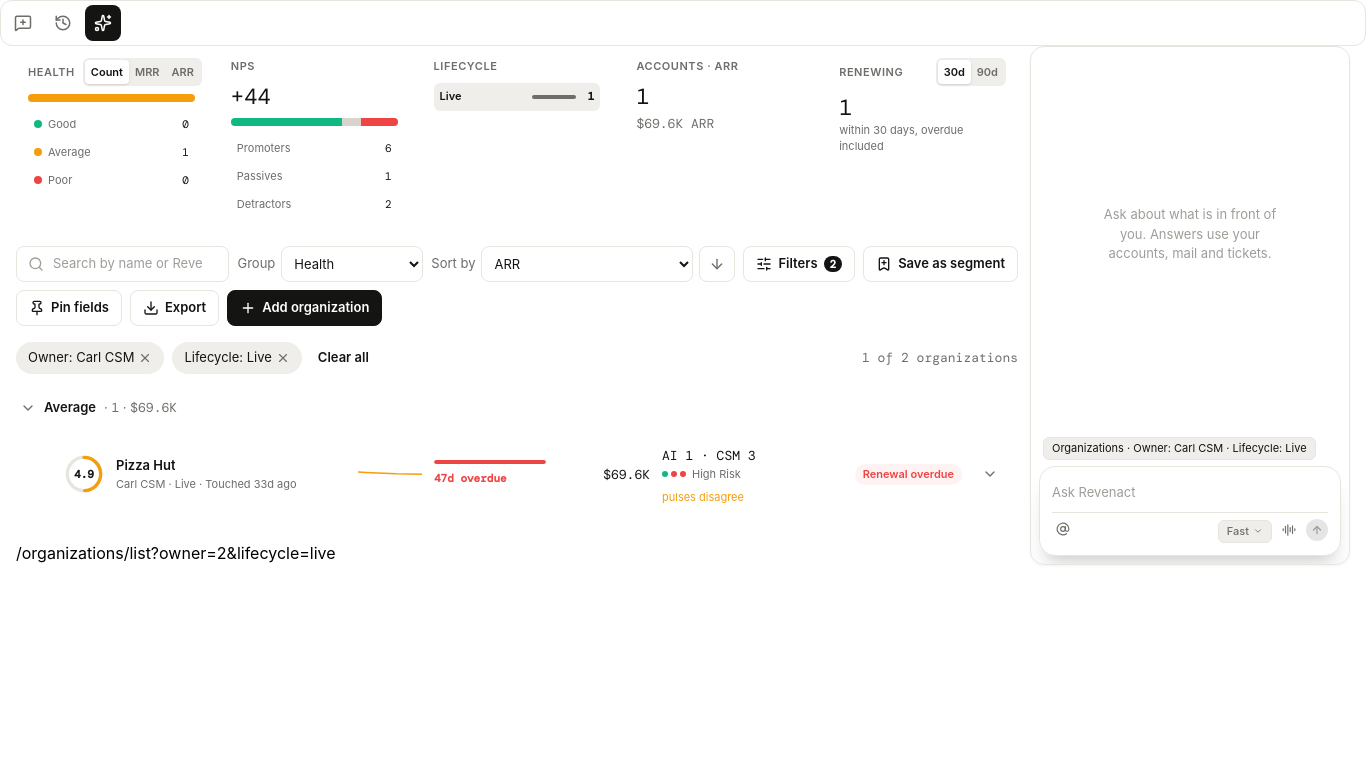
Test: Ask Revenact on Organizations › asks with the list's filters and names them in the chip
Expected: the link "Pizza Hut" is shown, x1=116 y1=456 x2=176 y2=476
Expected: the text "Organizations · Owner: Carl CSM · Lifecycle: Live" is shown, x1=1043 y1=437 x2=1316 y2=460
Type "Who renews first?" into the field with placeholder "Ask Revenact" at (1190, 492), box x1=1052 y1=480 x2=1328 y2=504
Then press Enter
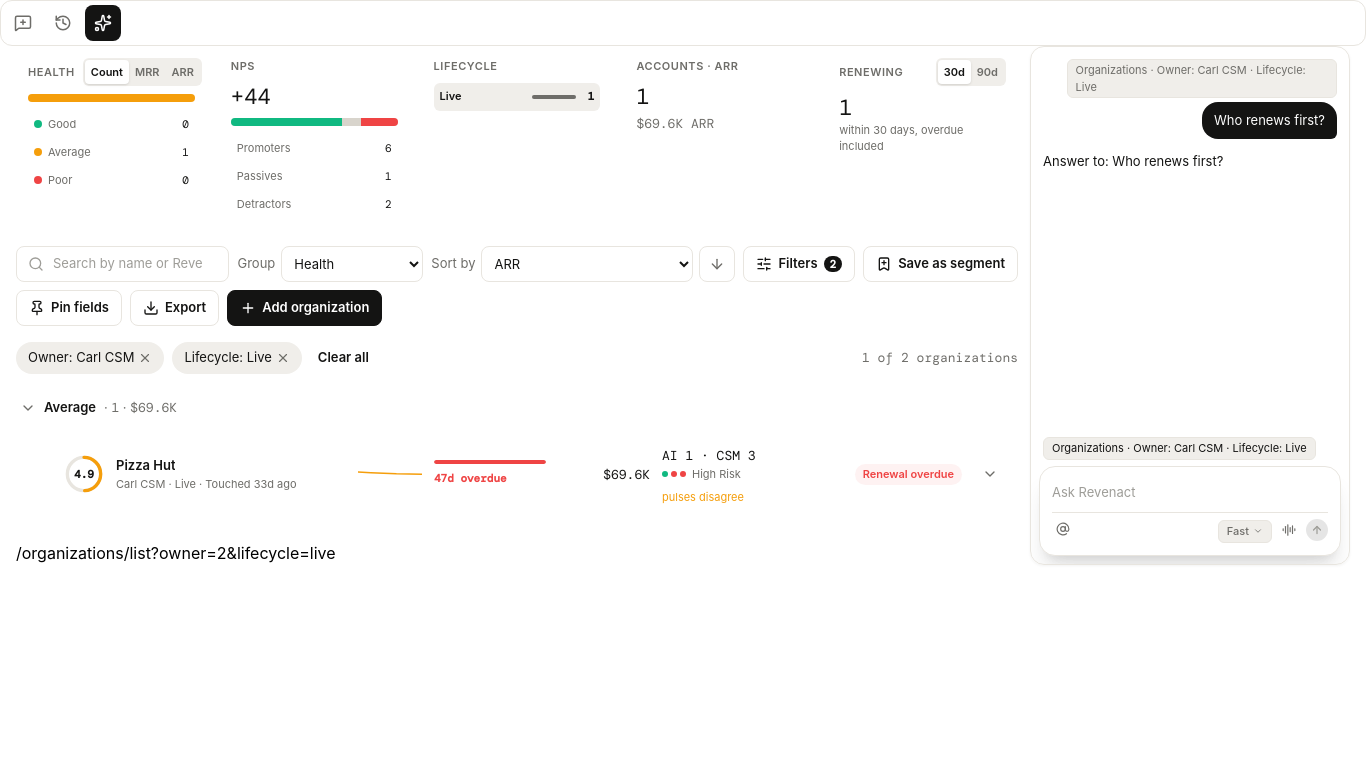
Now the text "Answer to: Who renews first?" is shown, box x1=1043 y1=151 x2=1223 y2=172
Now the 1st text "Organizations · Owner: Carl CSM · Lifecycle: Live" is shown, box x1=1066 y1=59 x2=1337 y2=98
